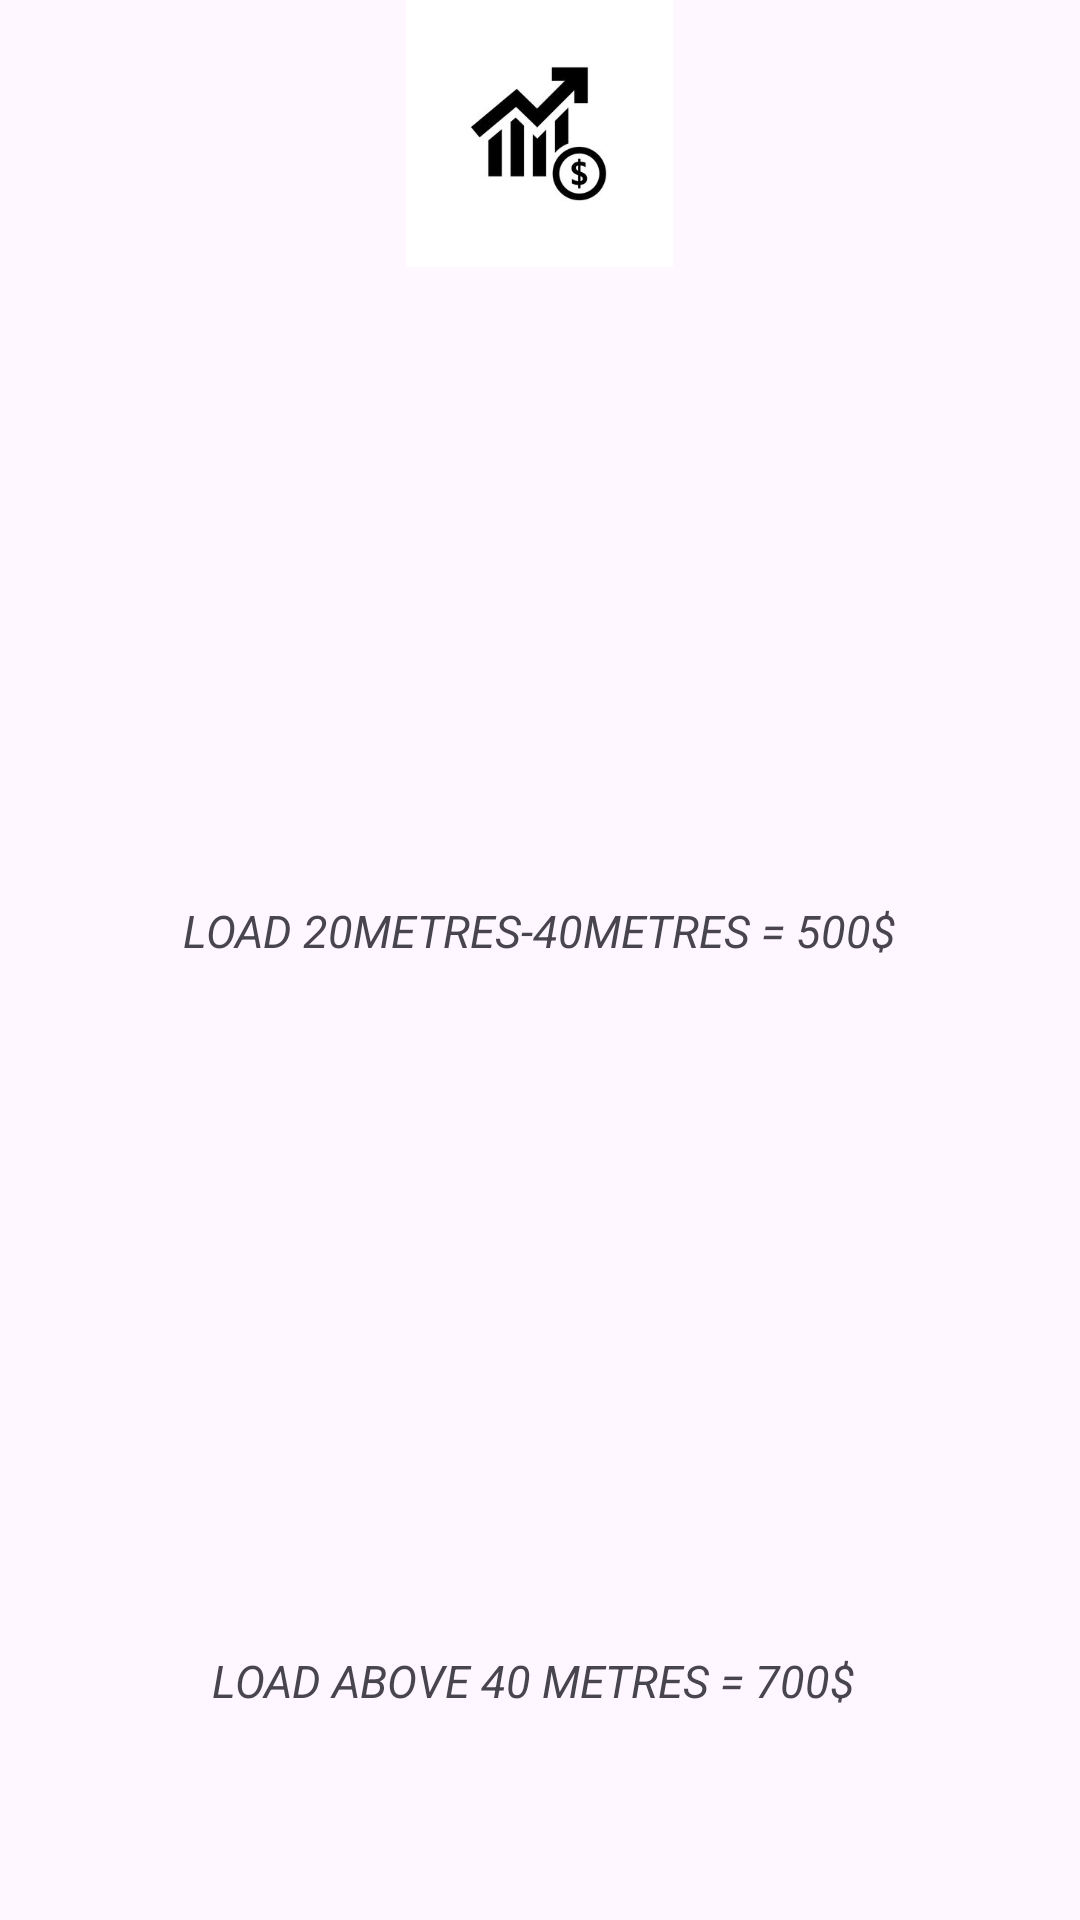

Icon click points for this 1080*1920 phone screenshot, format (x,y):
charges: (539,134)
